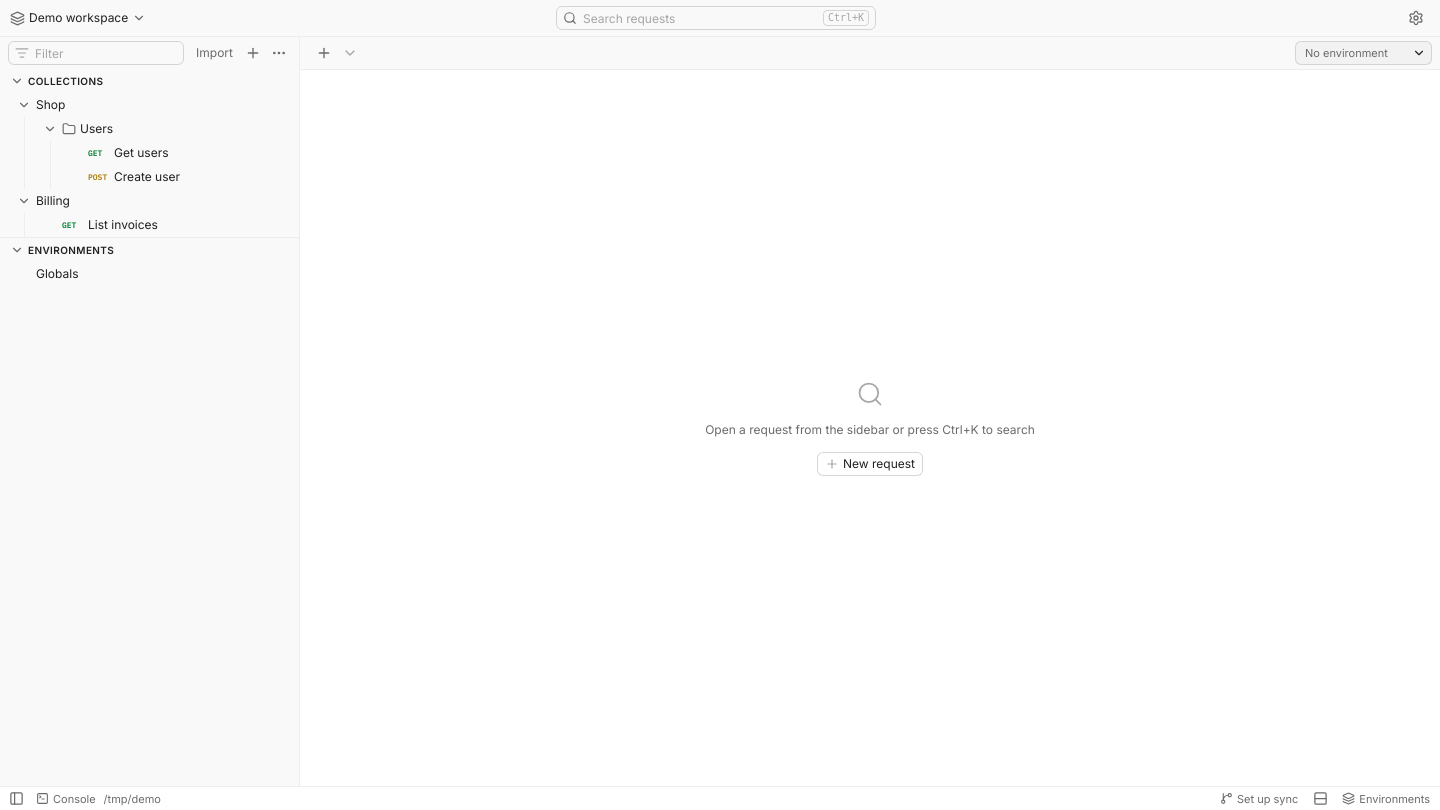
Scenario: quick open › filters while typing and opens the highlighted request with Enter
The width and height of the screenshot is (1440, 810).
Type "user" into the dropdown labelled "Search requests" at [700, 18], box top-left (583, 7), bottom-right (817, 29)
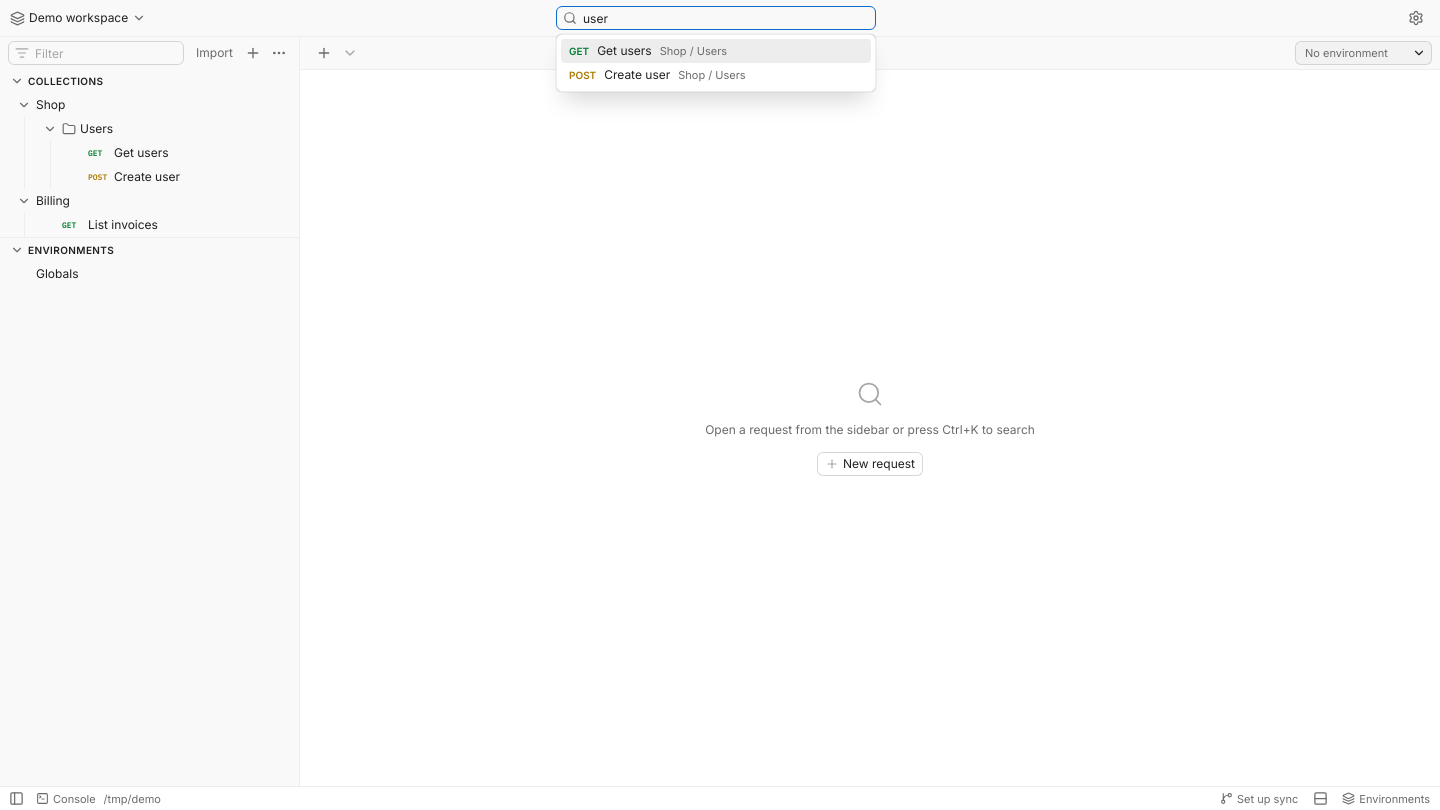
Result: the options read "GETGet usersShop / Users", "POSTCreate userShop / Users", in this order at top-left (561, 39), bottom-right (871, 63); top-left (569, 67), bottom-right (746, 82)
Press Arrowdown
Press Enter
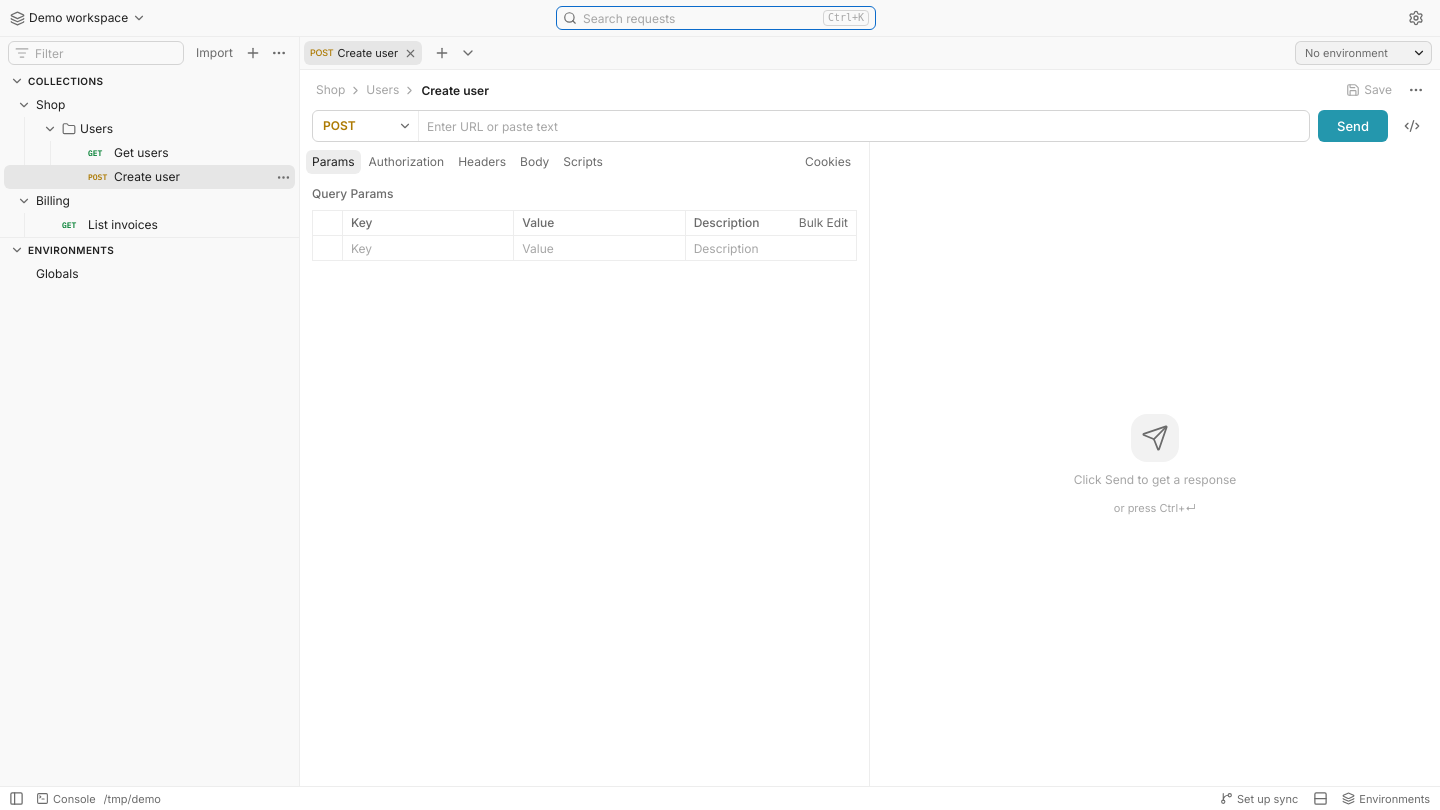
Result: the list "GET Get users Shop / Users POST Create user Shop / Users" is gone
Result: the dropdown labelled "Search requests" is empty at top-left (583, 7), bottom-right (817, 29)
